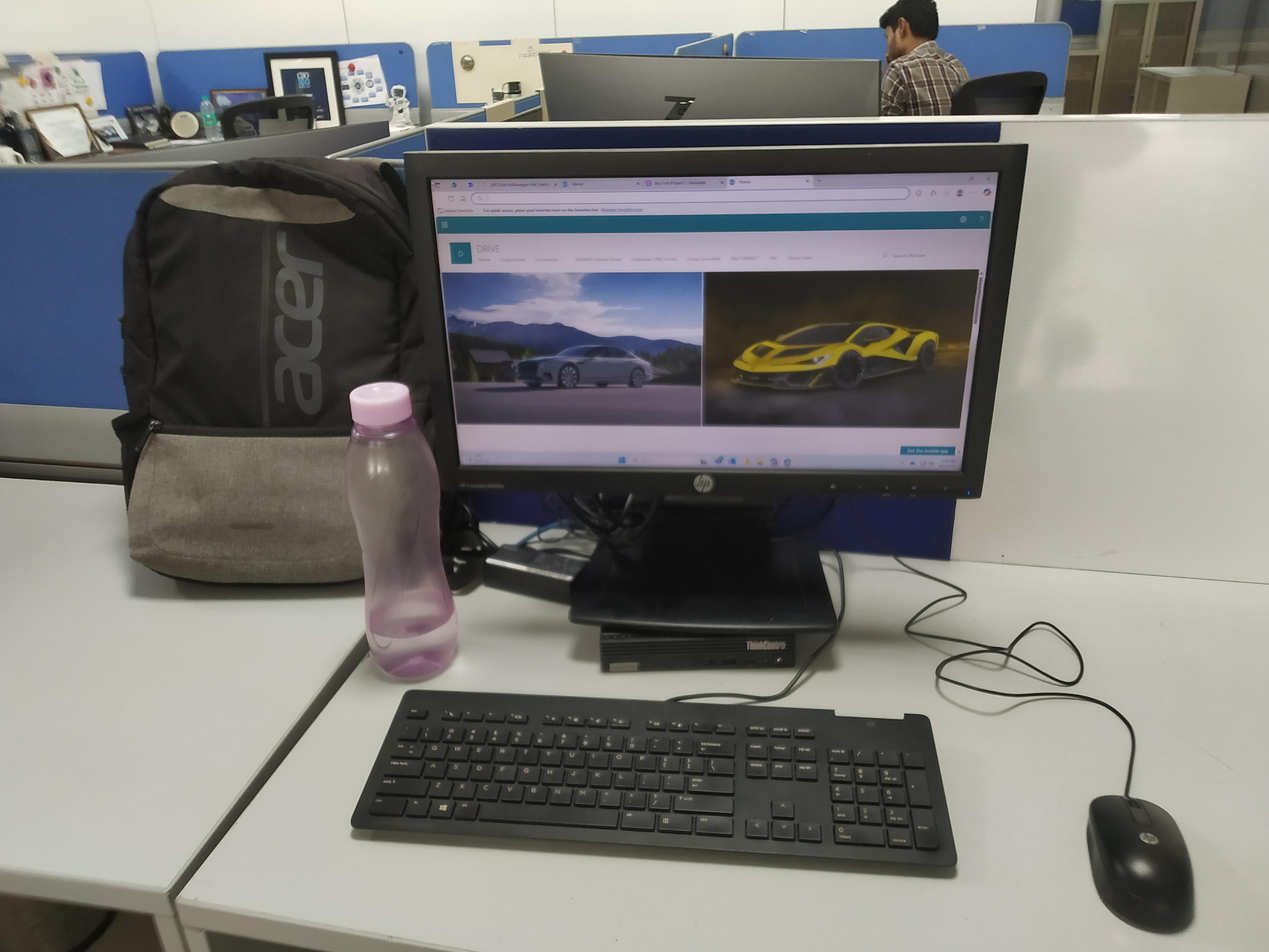bag: (100, 150, 438, 590)
bottle: (323, 376, 481, 691)
desktop: (390, 138, 1037, 642)
keyboard: (338, 681, 968, 885)
mouse: (1082, 790, 1202, 936)
